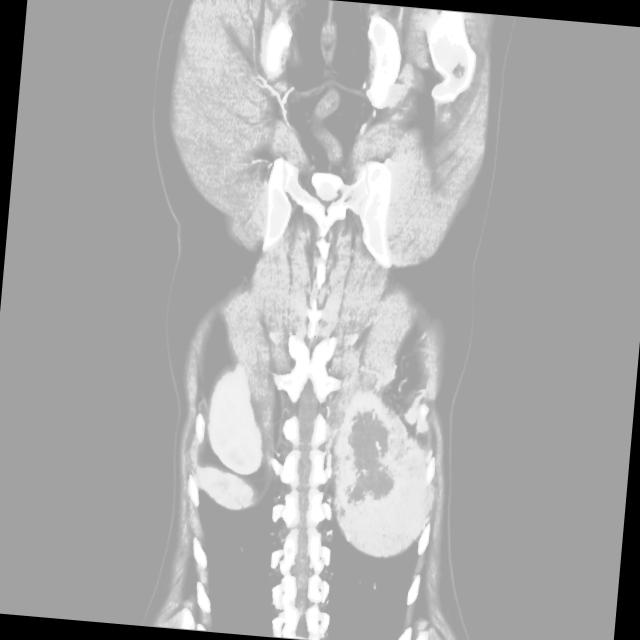TUMOR: (139, 208, 510, 505)
